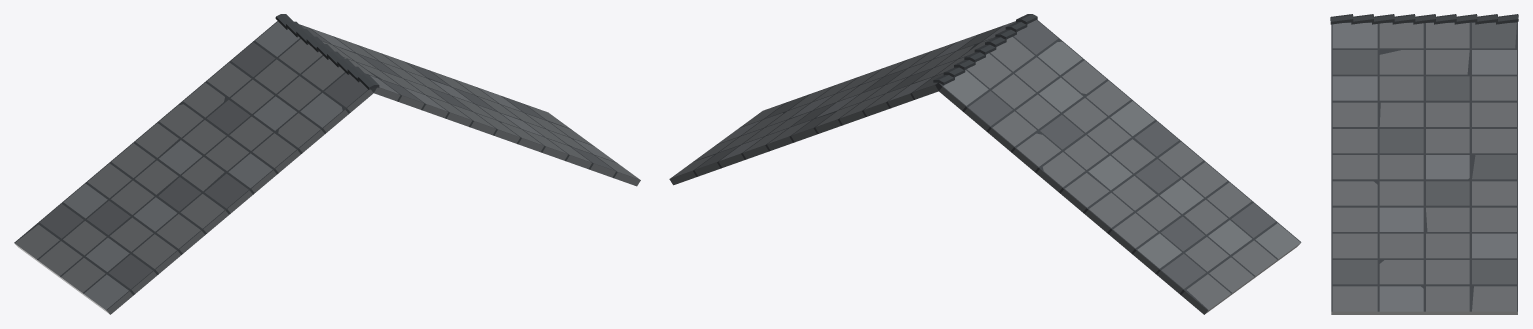
Rendered from Roof3_C8_01.fbx.
3 views of the same model, side by side, from view 1: azimuth 30°, elevation 25°; view 2: azimuth 150°, elevation 25°; view 3: azimuth 270°, elevation 25° (orthographic).
Parts seen in each view (by area): view 1: Roof3_C8_01; view 2: Roof3_C8_01; view 3: Roof3_C8_01.
Part boxes in pixels (x1,y1,x2,y2): Roof3_C8_01: [14, 14, 640, 314]; Roof3_C8_01: [669, 14, 1301, 314]; Roof3_C8_01: [1330, 14, 1518, 314].
Size of the model in its own units: 833 by 252 by 252.
